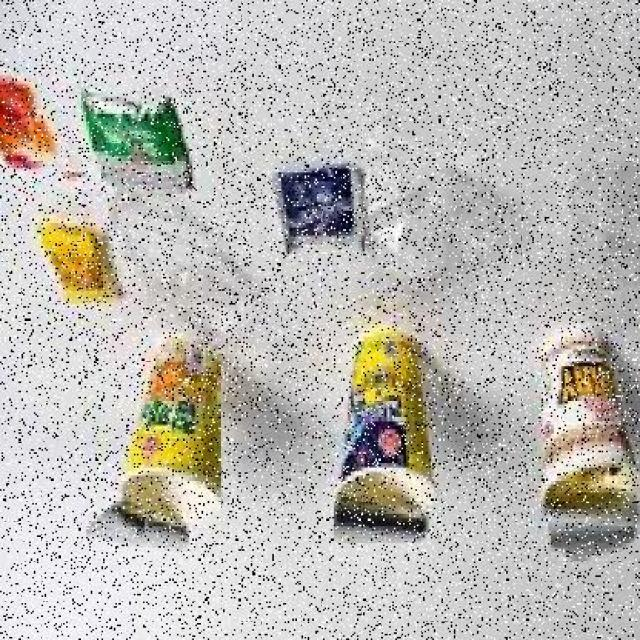Miscellaneous: (322, 318, 442, 540), (517, 346, 640, 552), (119, 320, 230, 548)
